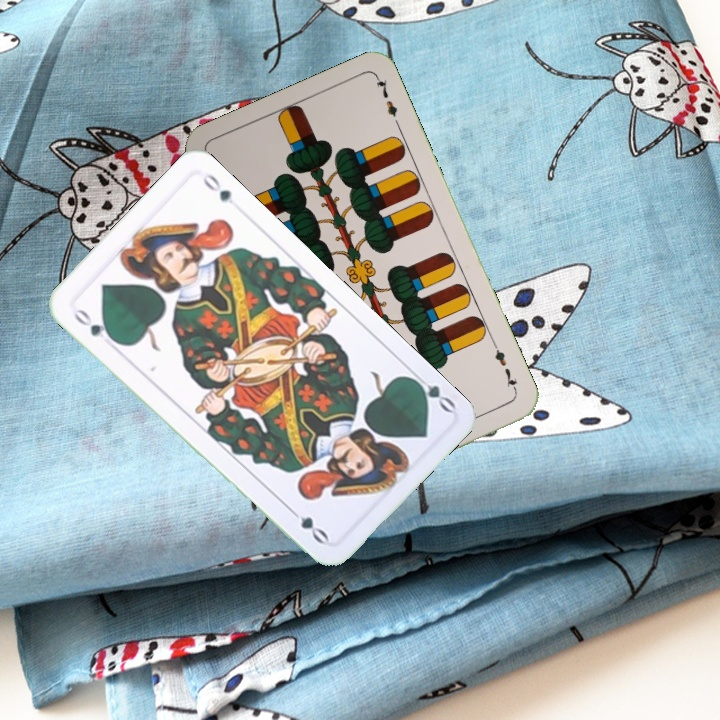E7: (489, 339, 520, 396)
GO: (406, 368, 458, 415), (69, 303, 119, 345)
